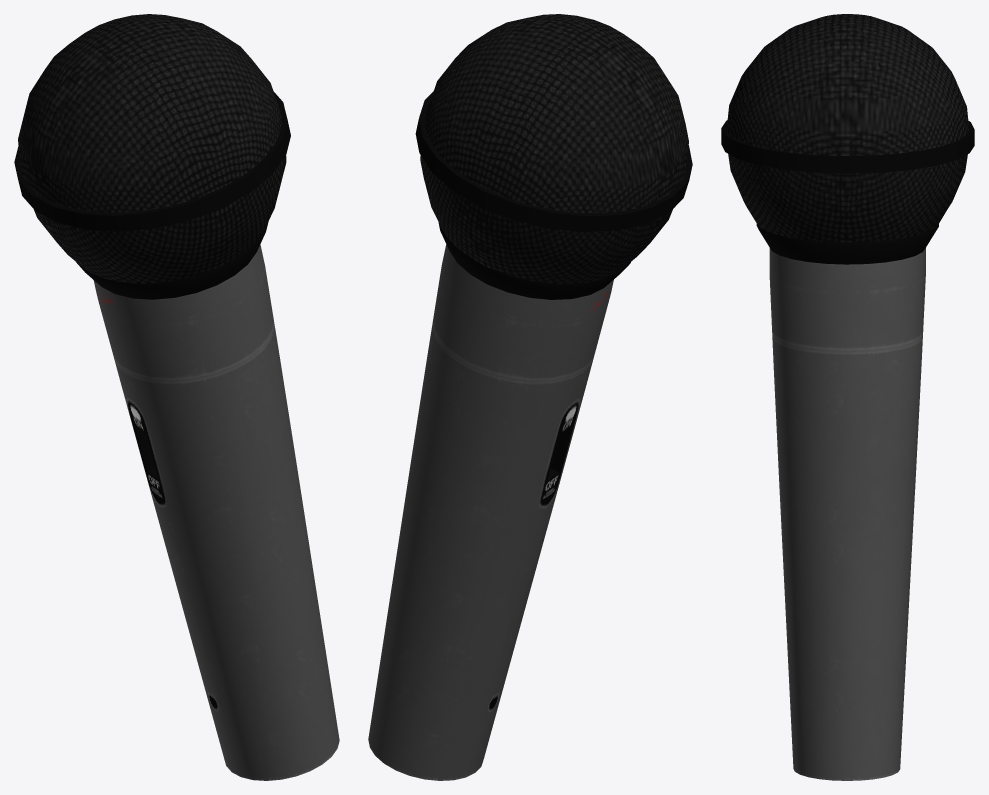
File: activewear.glb
The picture shows the model from 3 angles, left to right: view 1: azimuth 30°, elevation 25°; view 2: azimuth 150°, elevation 25°; view 3: azimuth 270°, elevation 25°; orthographic projection. The views are drawn at different scales.
Parts seen in each view (by area): view 1: grip_pos; view 2: grip_pos; view 3: grip_pos.
Part boxes in pixels (x1=…): grip_pos: x1=14, y1=14, x2=339, y2=780; grip_pos: x1=368, y1=14, x2=692, y2=780; grip_pos: x1=721, y1=14, x2=974, y2=780.
Size of the model in its own units: 0.0933 by 0.229 by 0.0754.
Materials: 1 (1 with a texture image).
